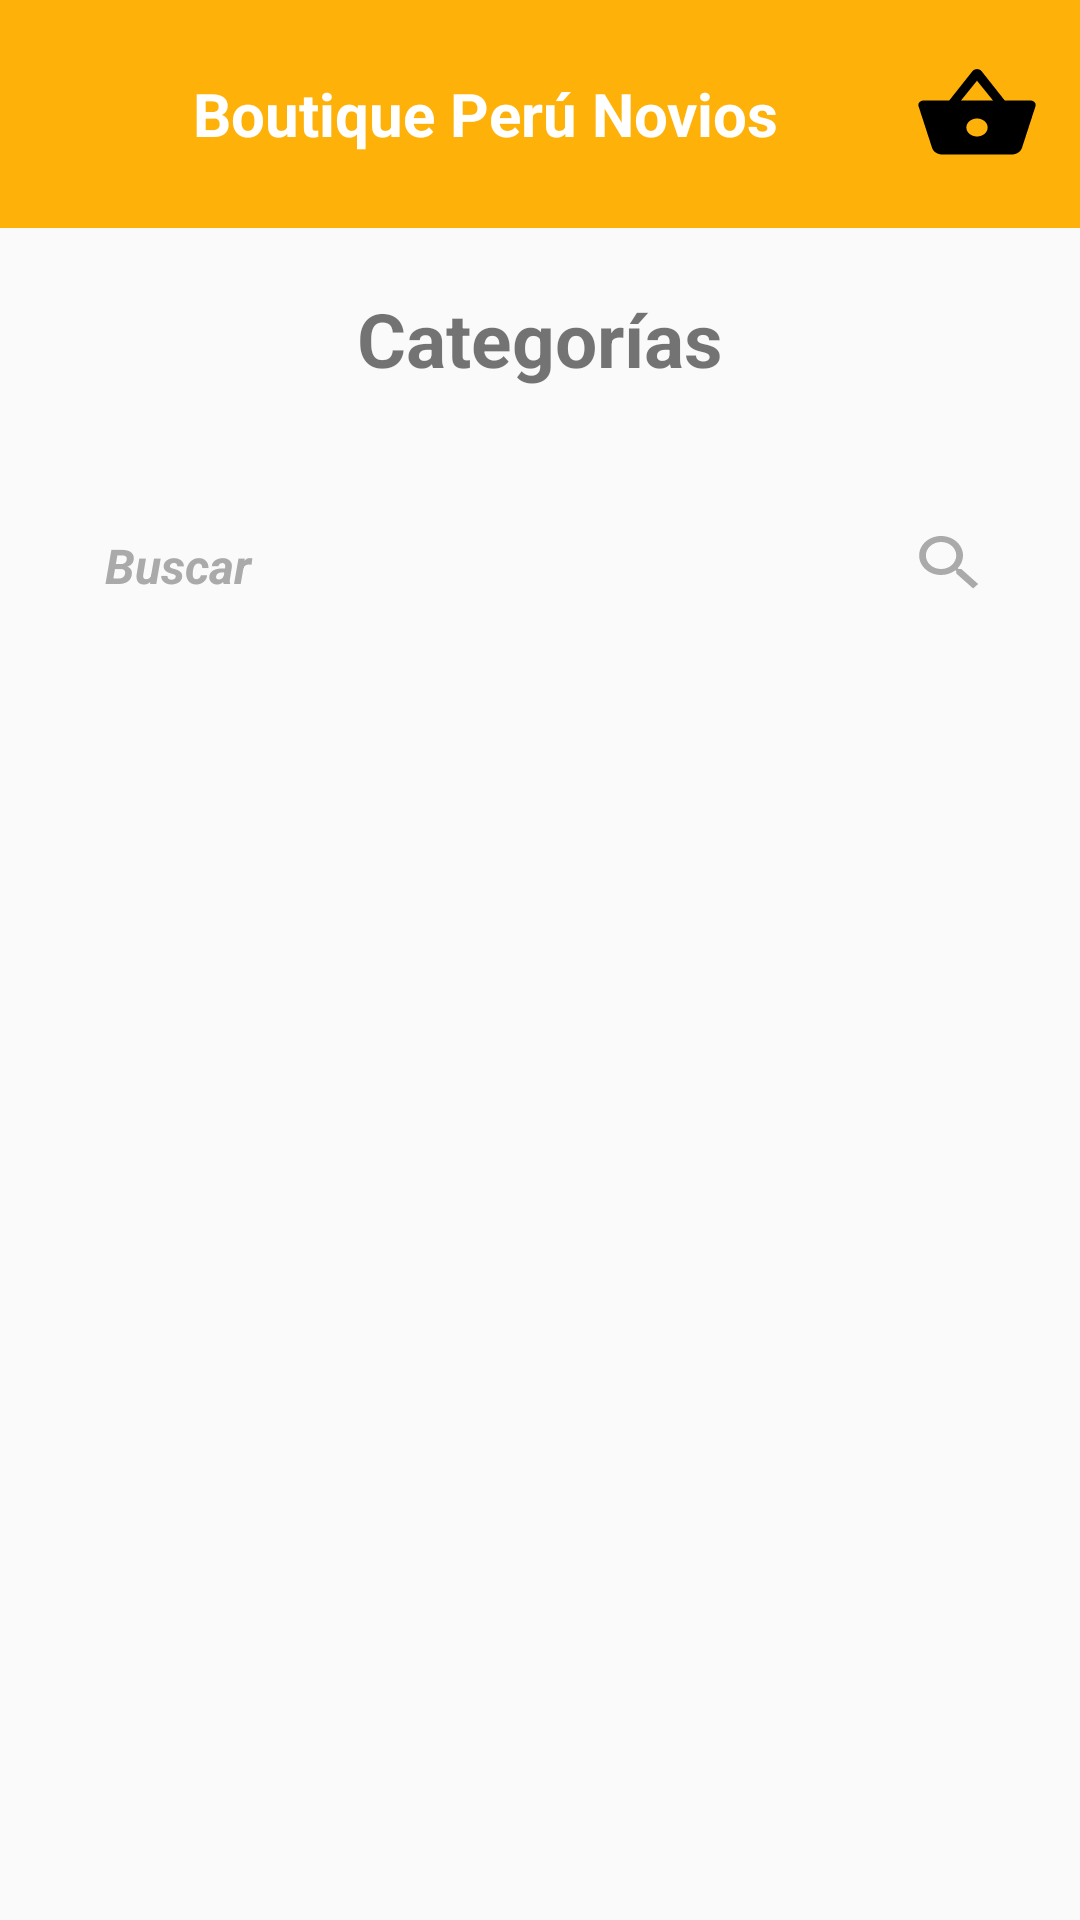

Screen size 1080px×1920px. Icon name, then its box in pixels as (x1, y1, x2, y2):
shopping basket: (918, 69, 1036, 155)
